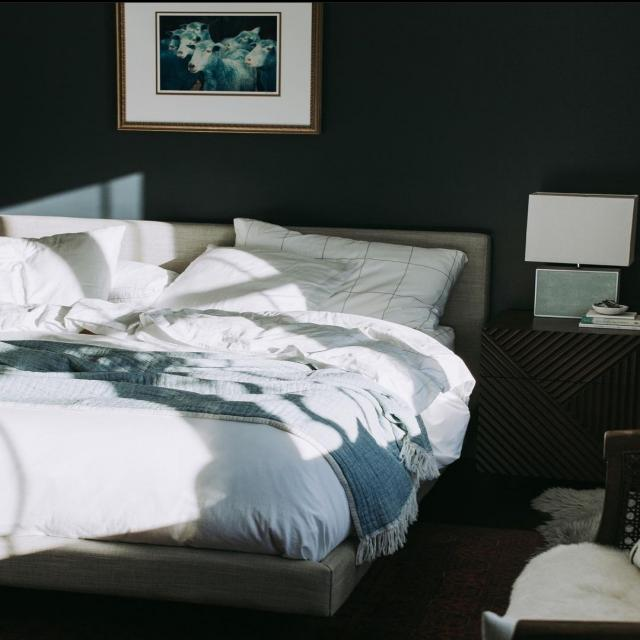bed: (0, 220, 454, 552)
